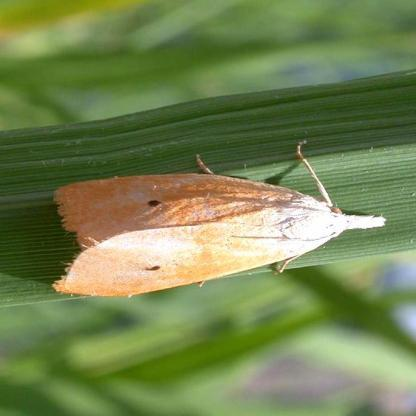stem-borer: (50, 170, 388, 299)
